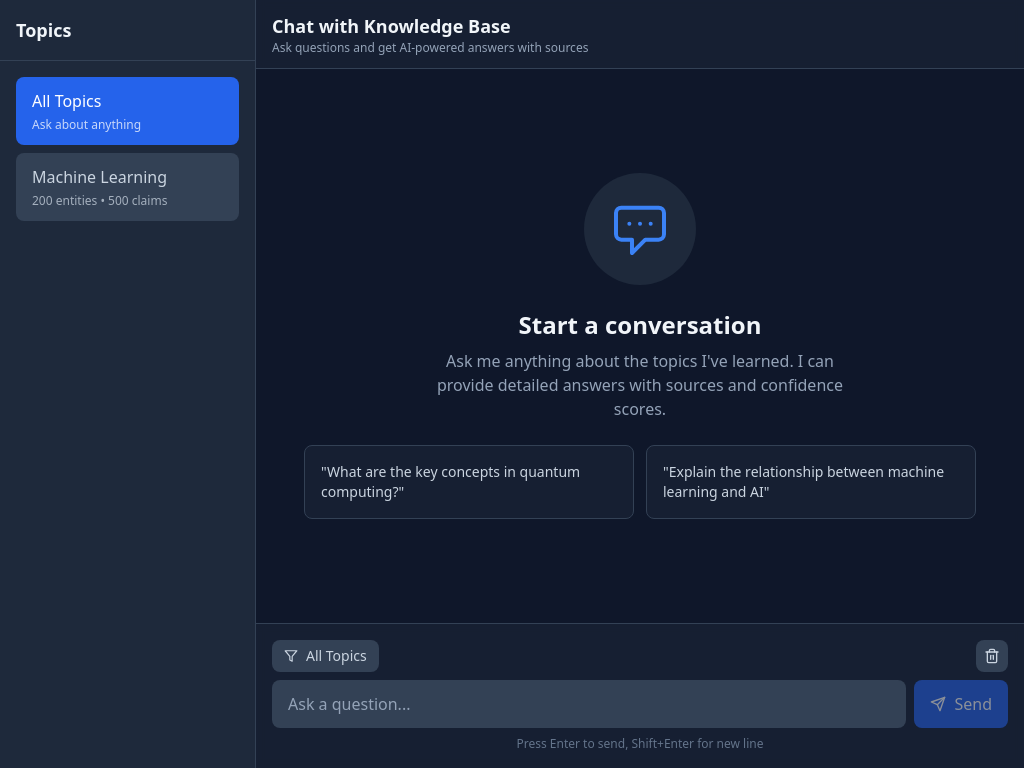
Scenario: ChatPage › shows error on chat send failure and renders fallback message
In the text box with placeholder "Ask a question...": (589, 704) top-left (272, 680), bottom-right (906, 728), type "bad question"
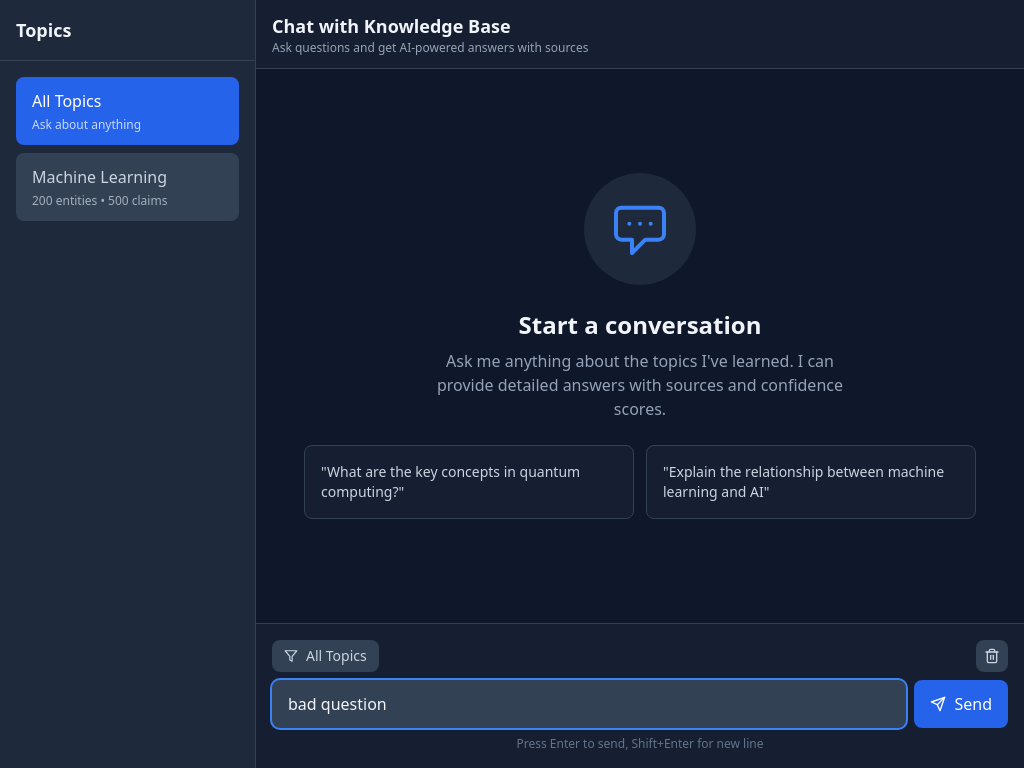
Click the button "Send": (961, 704) top-left (914, 680), bottom-right (1008, 728)
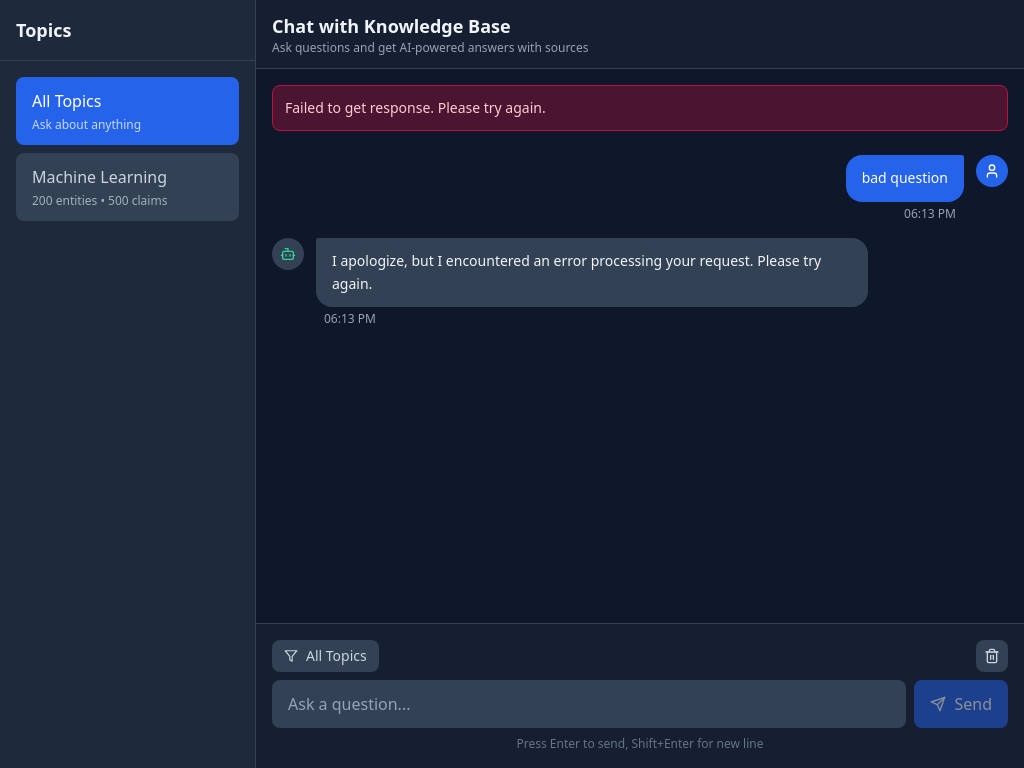
Expected: the text "Failed to get response. Please try again." is shown, top-left (272, 85), bottom-right (1008, 131)
Expected: the text "I apologize, but I encountered an error" is shown, top-left (332, 251), bottom-right (825, 293)
